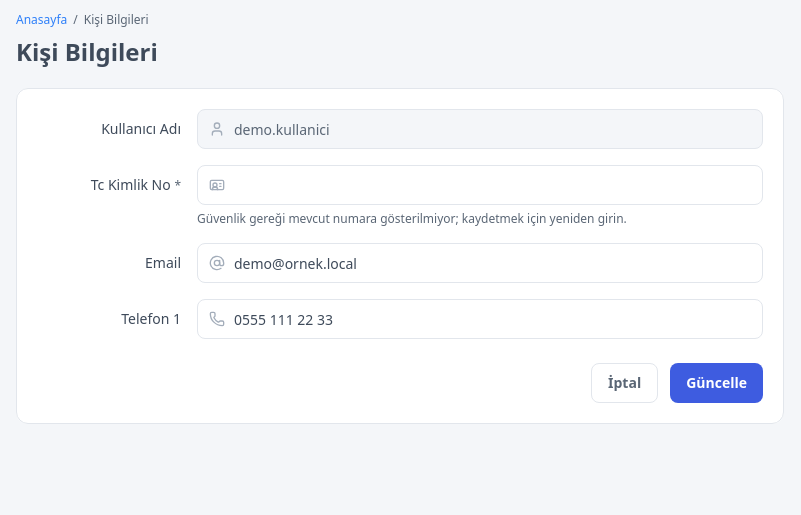
Test: güncelleme › kullanıcı PUT başarısızsa firma PUT gönderilmez
expect the field labelled "Email" is shown: met, box [197,243,763,283]
In the field labelled "Tc Kimlik No *": (480, 185) [197,165,763,205], type "12345678950"
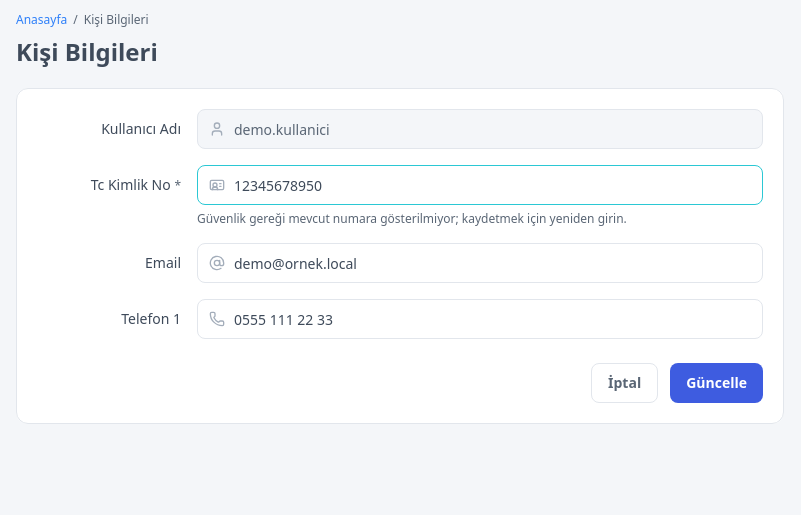
Click the button "Güncelle": (717, 383) [670,363,763,403]
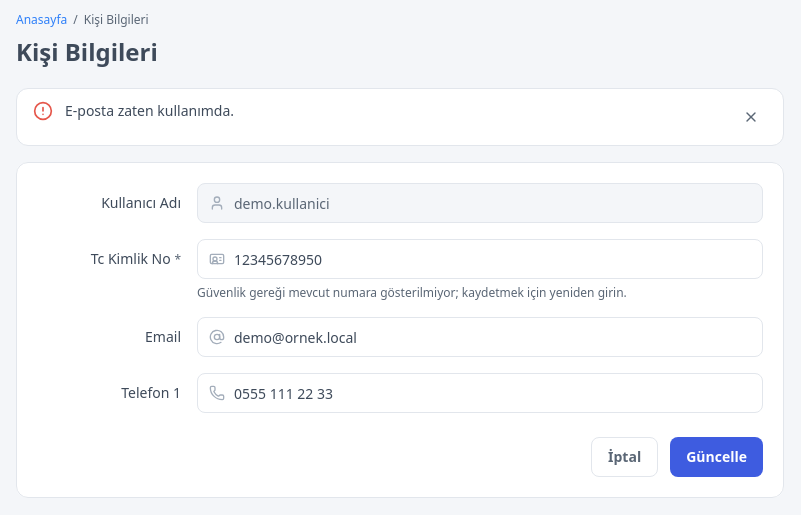
expect the message reads "E-posta zaten kullanımda.": met, box [65,101,234,120]
